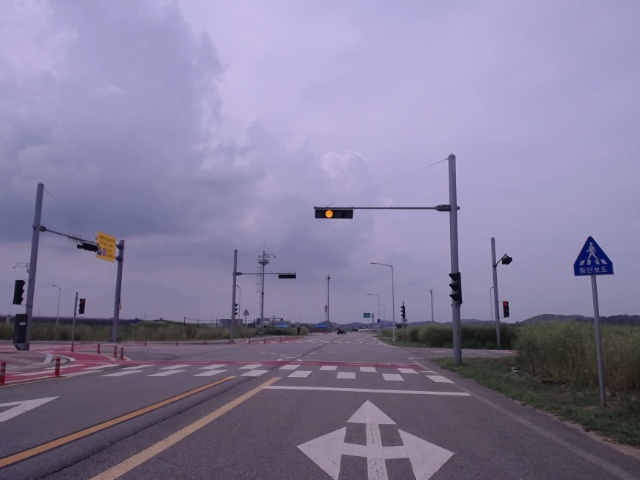orange_4: (312, 206, 356, 220)
